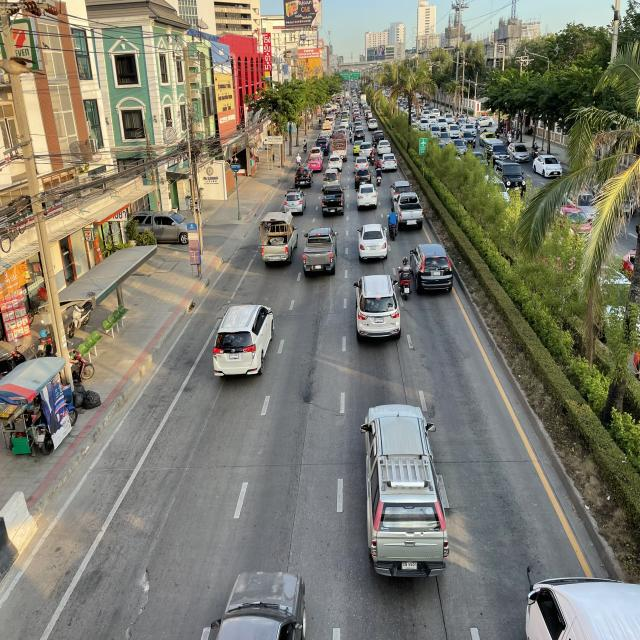bike: (395, 250, 416, 302), (386, 206, 401, 242)
car: (358, 389, 452, 586)
truck: (255, 209, 301, 270)
